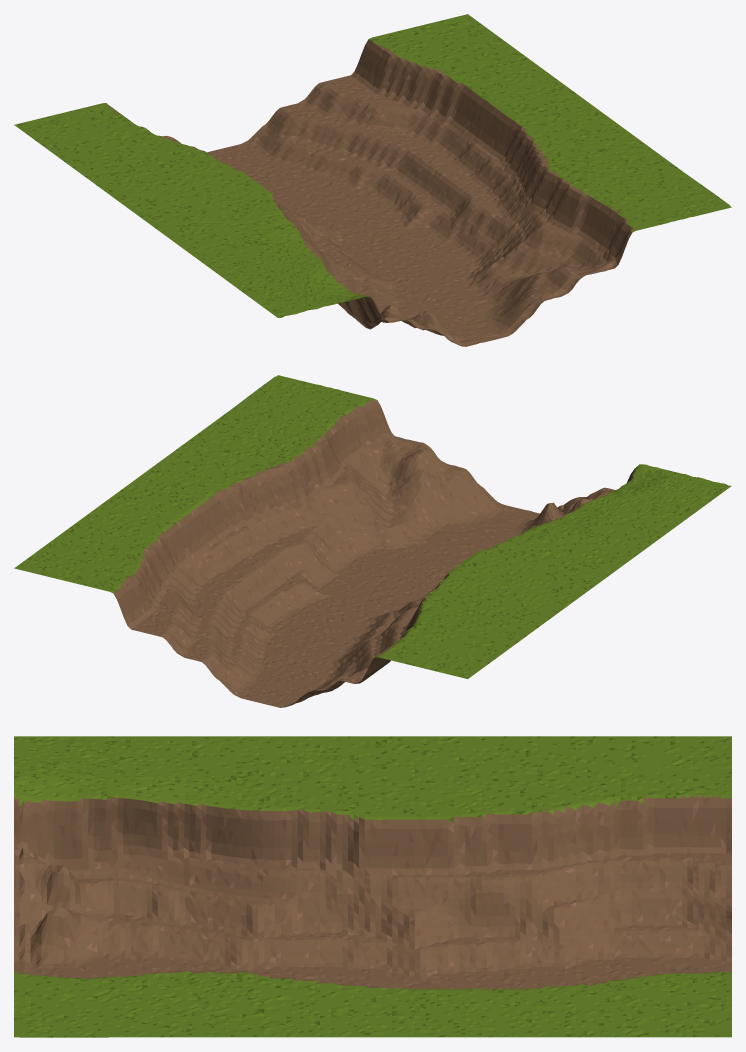
The model's file is mesh_terrain_medium_06.fbx.
3 views of the same model, one above another, from view 1: azimuth 30°, elevation 25°; view 2: azimuth 150°, elevation 25°; view 3: azimuth 270°, elevation 25° (orthographic). The views are drawn at different scales.
Parts seen in each view (by area): view 1: mesh_terrain_medium_06; view 2: mesh_terrain_medium_06; view 3: mesh_terrain_medium_06.
Part boxes in pixels (left/top/right/bottom): mesh_terrain_medium_06: left=14, top=14, right=731, bottom=346; mesh_terrain_medium_06: left=14, top=375, right=731, bottom=707; mesh_terrain_medium_06: left=14, top=736, right=731, bottom=1037.
Size of the model in its own units: 50.08 by 7.98 by 50.39.
